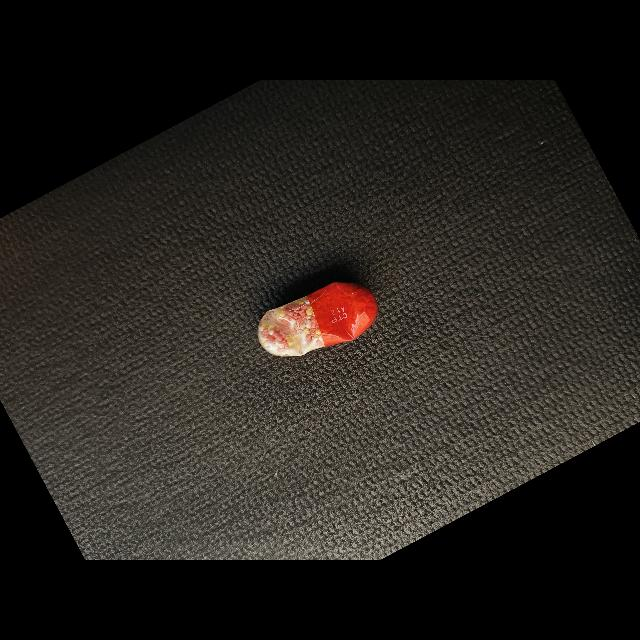Defective Capsule: (257, 282, 378, 357)
